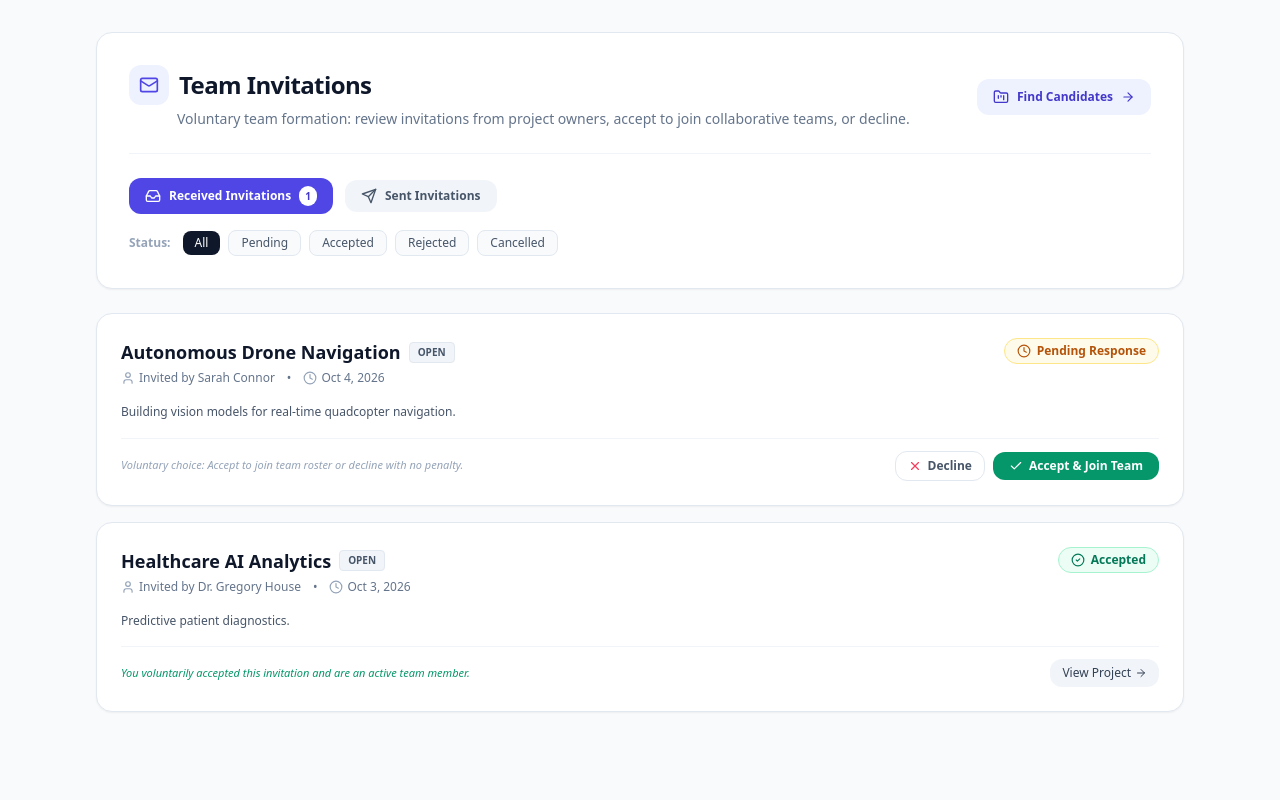
Test: Phase 13: Voluntary Team Formation & Invitations Frontend Tests › 5. declines invitation voluntarily and shows confirmation
expect the link "Autonomous Drone Navigation" is shown: met, box left=121, top=338, right=401, bottom=366
Click the button "Decline": (940, 466) left=894, top=450, right=985, bottom=480
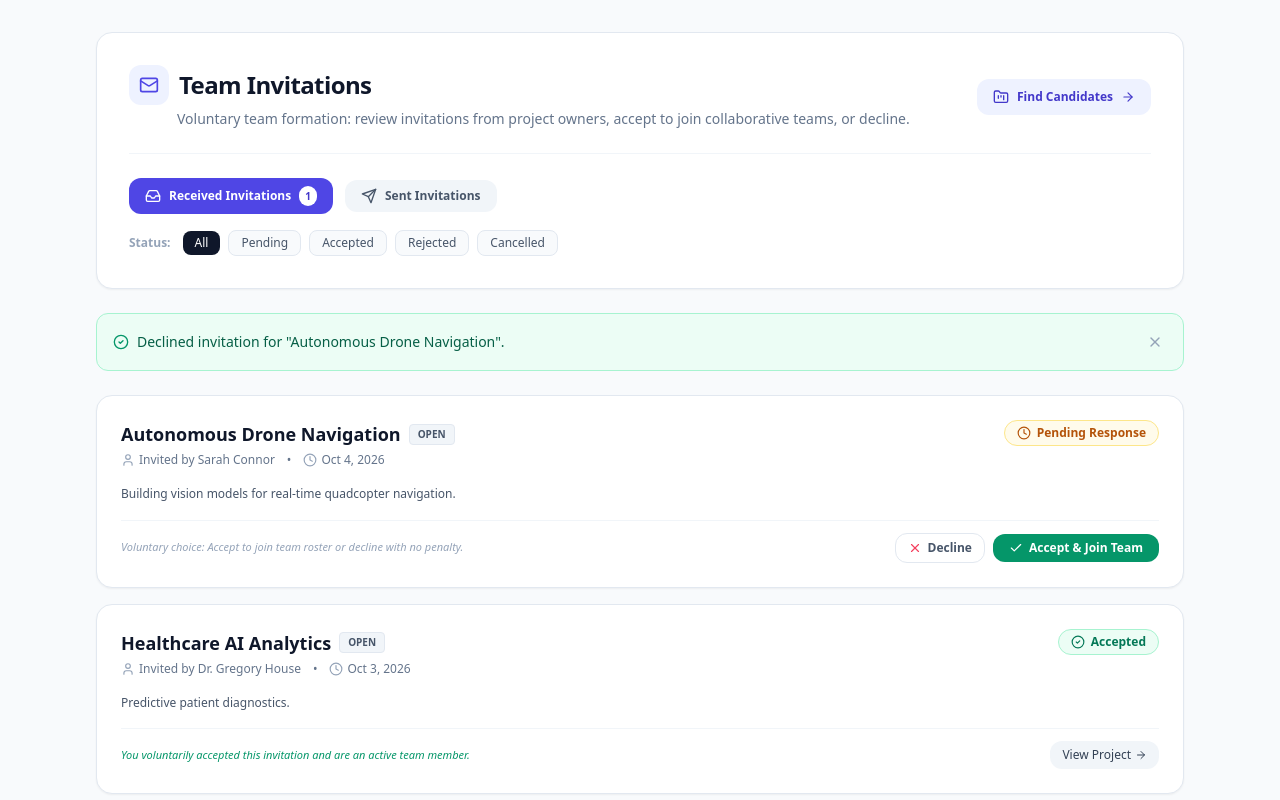
expect the text "Declined invitation for \"Autonomous Drone Navigation\"." is shown: met, box left=137, top=332, right=505, bottom=352
